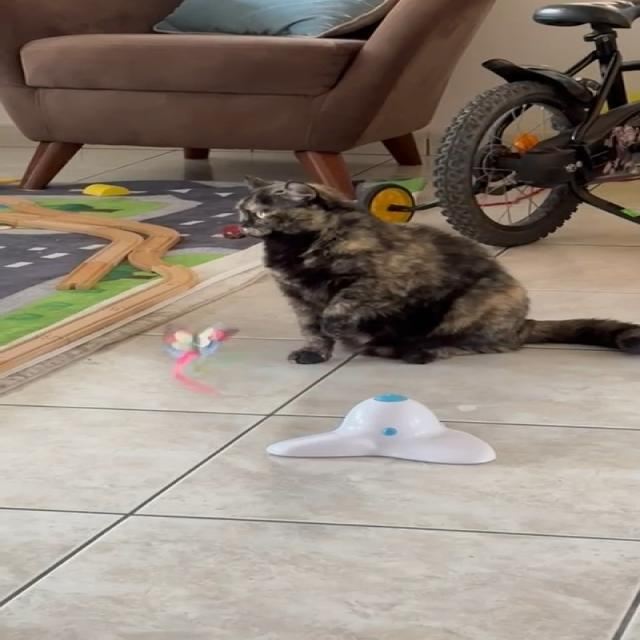authorized: (232, 174, 639, 365)
